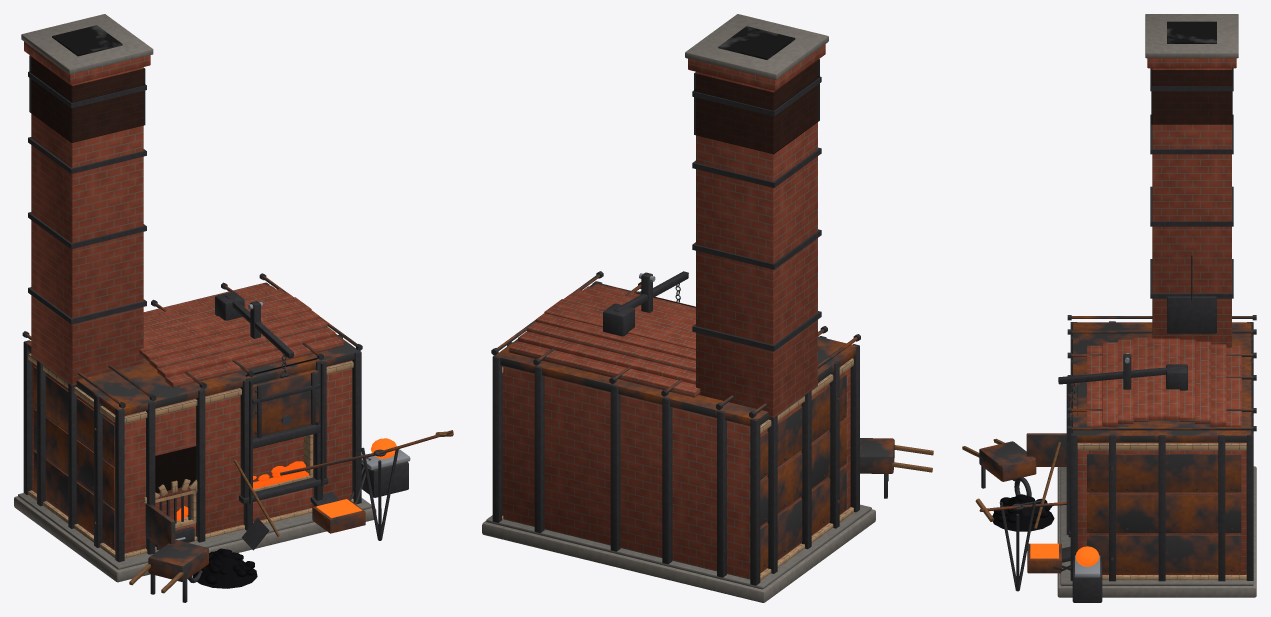
The model's file is puddling_furnace.glb.
3 views of the same model, side by side, from view 1: azimuth 30°, elevation 25°; view 2: azimuth 150°, elevation 25°; view 3: azimuth 270°, elevation 25° (orthographic). The views are drawn at different scales.
Parts seen in each view (by area): view 1: mrg_puddling_furnace_brick, mrg_puddling_furnace_iron, mrg_puddling_furnace_rustyIron, mrg_puddling_furnace_sootStain, mrg_puddling_furnace_stone, mrg_puddling_furnace_fireBrick, doorPlate, plinthCap, barrowTray, mrg_puddling_furnace_coalPile, chimneyFlue, mrg_door_iron (+3 smaller); view 2: mrg_puddling_furnace_brick, mrg_puddling_furnace_iron, mrg_puddling_furnace_rustyIron, mrg_puddling_furnace_stone, mrg_puddling_furnace_sootStain, plinthCap, chimneyFlue, mrg_puddling_furnace_fireBrick, barrowTray; view 3: mrg_puddling_furnace_brick, mrg_puddling_furnace_rustyIron, mrg_puddling_furnace_iron, mrg_puddling_furnace_stone, mrg_puddling_furnace_sootStain, mrg_puddling_furnace_fireBrick, plinthCap, barrowTray, mrg_puddling_furnace_coalPile, chimneyFlue, mrg_puddling_furnace_glowOrange, mrg_puddling_furnace_wood (+1 smaller).
Boxes of the visible parts, bbox=[...] form: mrg_puddling_furnace_brick: bbox=[24, 41, 352, 553]; mrg_puddling_furnace_iron: bbox=[22, 71, 408, 562]; mrg_puddling_furnace_rustyIron: bbox=[25, 276, 365, 549]; mrg_puddling_furnace_sootStain: bbox=[29, 55, 317, 493]; mrg_puddling_furnace_stone: bbox=[14, 14, 376, 582]; mrg_puddling_furnace_fireBrick: bbox=[28, 353, 353, 558]; doorPlate: bbox=[252, 369, 318, 437]; plinthCap: bbox=[18, 493, 371, 569]; barrowTray: bbox=[148, 539, 208, 581]; mrg_puddling_furnace_coalPile: bbox=[192, 548, 257, 588]; chimneyFlue: bbox=[52, 25, 122, 56]; mrg_door_iron: bbox=[252, 372, 320, 438]; mrg_puddling_furnace_brick: bbox=[502, 44, 850, 579]; mrg_puddling_furnace_iron: bbox=[491, 76, 860, 585]; mrg_puddling_furnace_rustyIron: bbox=[496, 274, 857, 571]; mrg_puddling_furnace_stone: bbox=[482, 14, 875, 602]; mrg_puddling_furnace_sootStain: bbox=[636, 59, 819, 307]; plinthCap: bbox=[486, 504, 871, 589]; chimneyFlue: bbox=[718, 26, 795, 59]; mrg_puddling_furnace_fireBrick: bbox=[502, 358, 853, 580]; barrowTray: bbox=[860, 438, 894, 473]; mrg_puddling_furnace_brick: bbox=[1077, 58, 1246, 574]; mrg_puddling_furnace_rustyIron: bbox=[1026, 316, 1252, 573]; mrg_puddling_furnace_iron: bbox=[999, 68, 1256, 602]; mrg_puddling_furnace_stone: bbox=[1057, 14, 1256, 597]; mrg_puddling_furnace_sootStain: bbox=[1077, 68, 1232, 415]; mrg_puddling_furnace_fireBrick: bbox=[1077, 443, 1246, 580]; plinthCap: bbox=[1060, 467, 1253, 585]; barrowTray: bbox=[979, 441, 1036, 481]; mrg_puddling_furnace_coalPile: bbox=[992, 494, 1054, 531]; chimneyFlue: bbox=[1167, 21, 1216, 43]; mrg_puddling_furnace_glowOrange: bbox=[1030, 543, 1099, 566]; mrg_puddling_furnace_wood: bbox=[975, 442, 1060, 528].
Bounding box in the file's own units: 3.59 × 5.14 × 2.96.
Materials: 14 (8 with a texture image).
